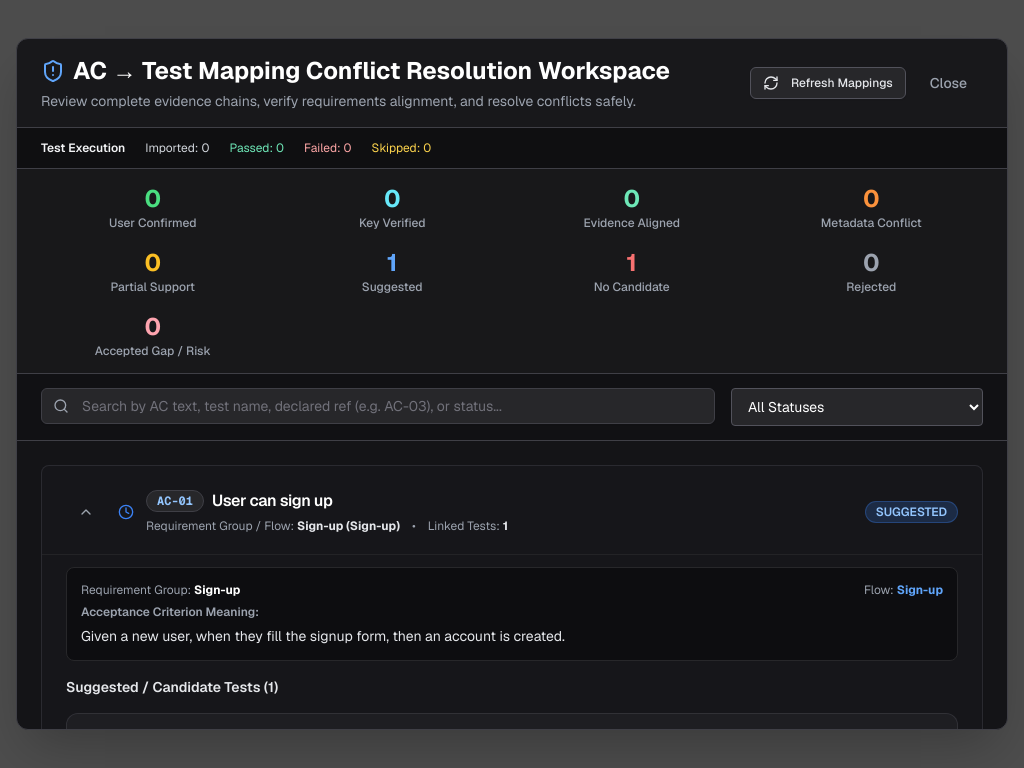
it: MappingReviewPanel › status filter shows no_candidate rows
Expected: the text "AC-01" is shown, [146,490,204,512]
Select "No Candidate" in the dropdown at point(857, 407), box [731,388,983,426]
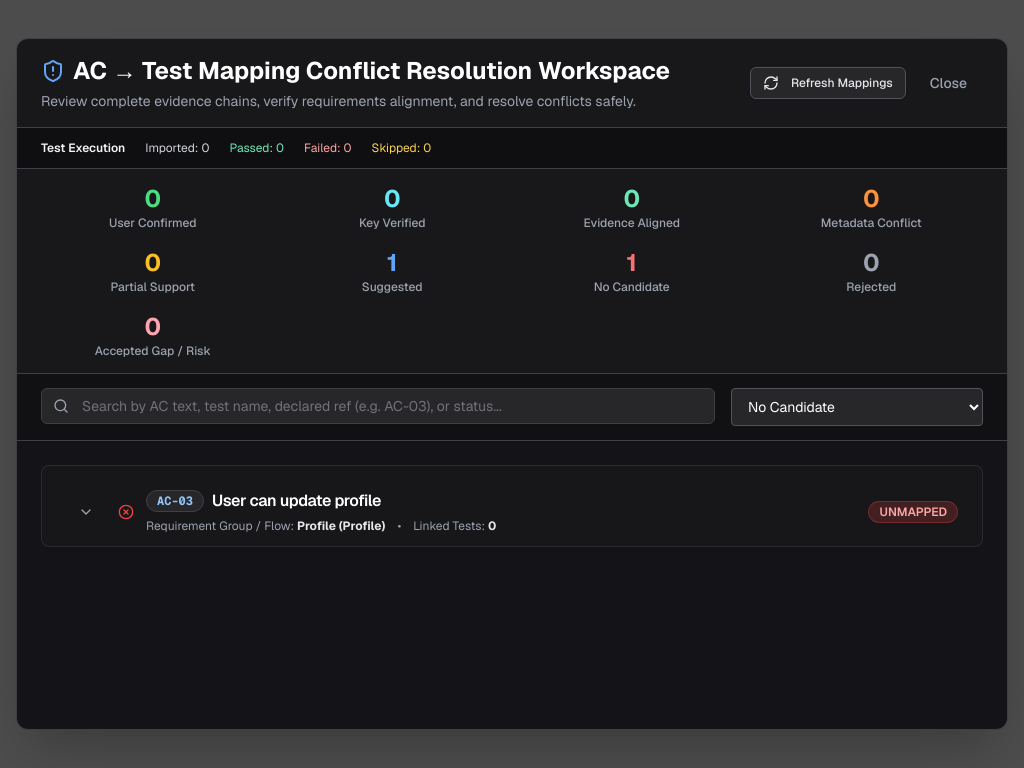
Expected: the text "AC-01" is gone
Expected: the text "AC-03" is shown, [146,490,204,512]
